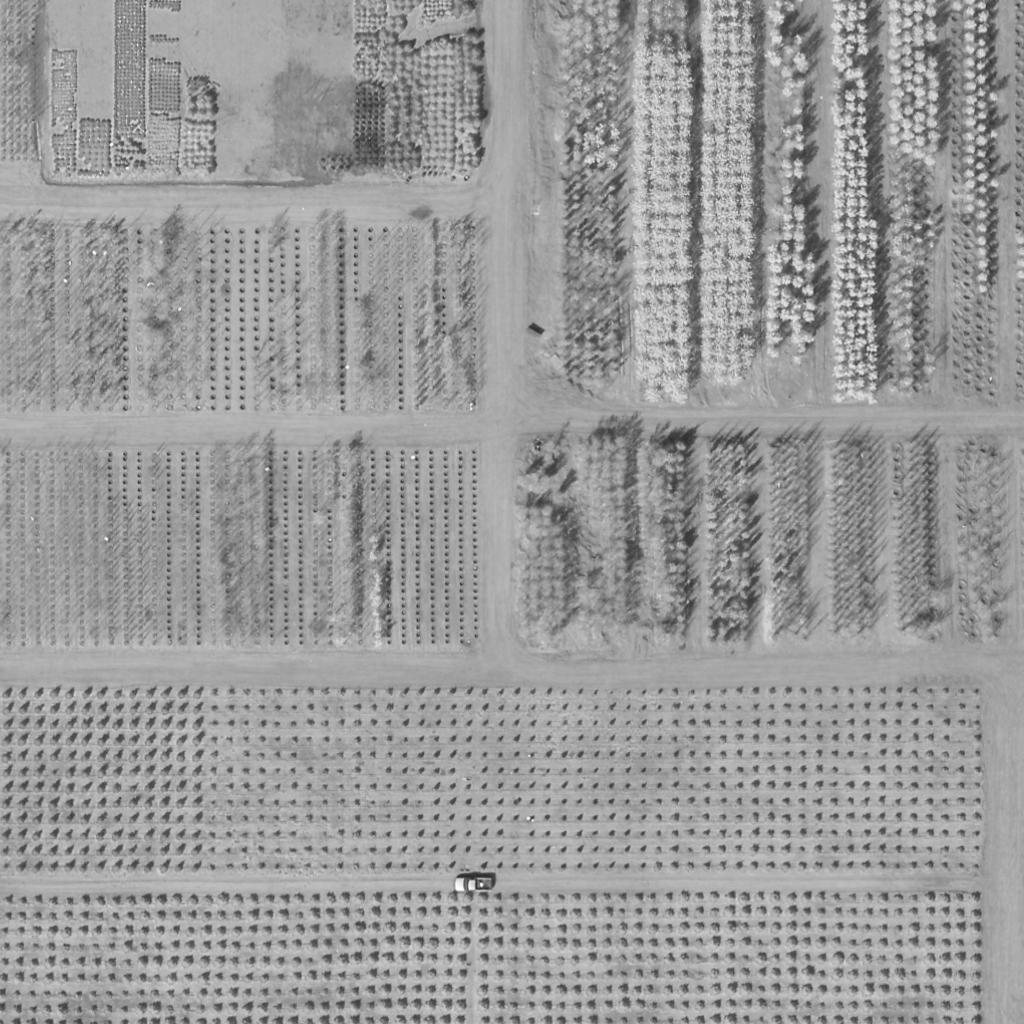vehicle: (455, 876, 495, 894)
